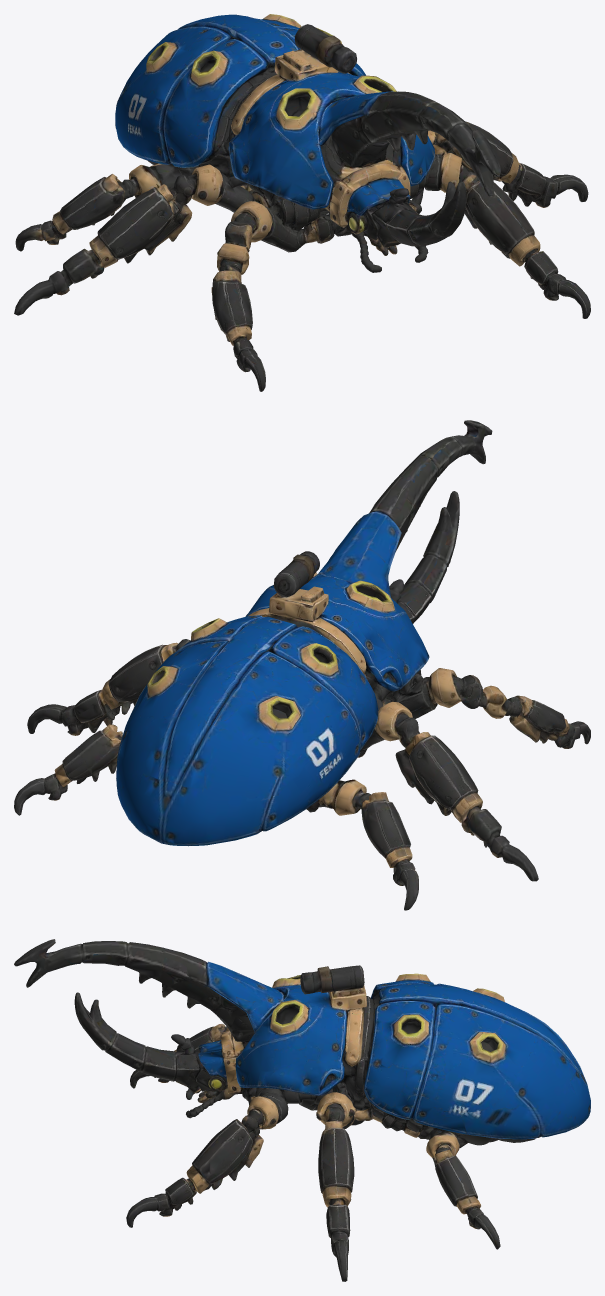
The model's file is hercules-beetle.glb.
3 renders of one model, top to bottom at view 1: azimuth 30°, elevation 25°; view 2: azimuth 150°, elevation 25°; view 3: azimuth 270°, elevation 25°, orthographic. The views are drawn at different scales.
Size of the model in its own units: 3.19 by 1.47 by 3.4.
Materials: 1 (1 with a texture image).
